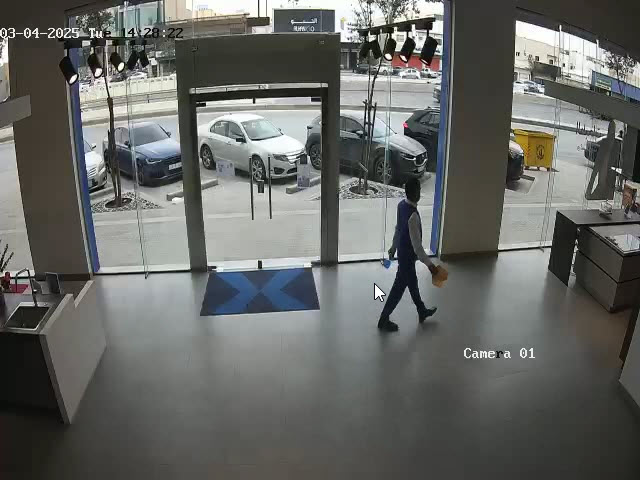employee: (377, 177, 442, 332)
